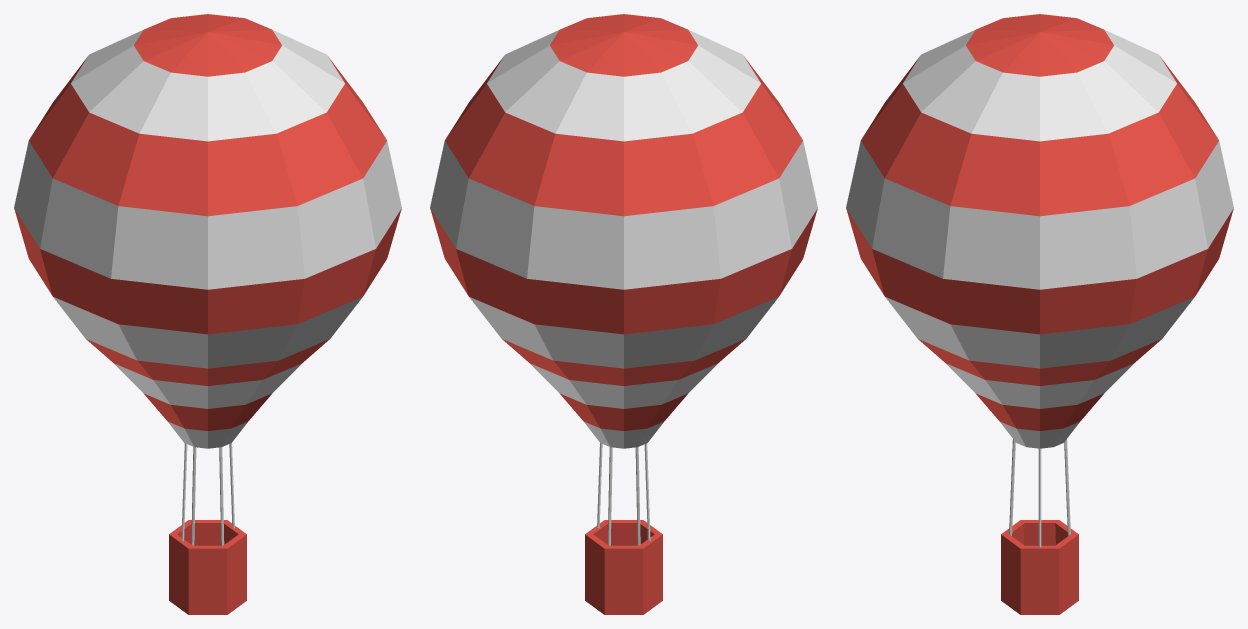
File: baloon.glb
3 renders of one model, left to right at view 1: azimuth 30°, elevation 25°; view 2: azimuth 150°, elevation 25°; view 3: azimuth 270°, elevation 25°, orthographic.
Parts seen in each view (by area): view 1: Sphere, Cylinder, Cylinder.001, Cylinder.002; view 2: Sphere, Cylinder, Cylinder.001, Cylinder.002; view 3: Sphere, Cylinder, Cylinder.001.
Part boxes in pixels (x1=…): Sphere: x1=14, y1=14, x2=401, y2=448; Cylinder: x1=169, y1=520, x2=246, y2=614; Cylinder.001: x1=191, y1=447, x2=224, y2=545; Cylinder.002: x1=181, y1=443, x2=234, y2=540; Sphere: x1=430, y1=14, x2=817, y2=448; Cylinder: x1=585, y1=520, x2=662, y2=614; Cylinder.001: x1=607, y1=447, x2=640, y2=545; Cylinder.002: x1=597, y1=443, x2=650, y2=540; Sphere: x1=846, y1=14, x2=1233, y2=448; Cylinder: x1=1001, y1=520, x2=1078, y2=614; Cylinder.001: x1=1009, y1=439, x2=1070, y2=535.
Size of the model in its own units: 6.77 by 10.95 by 6.77.
